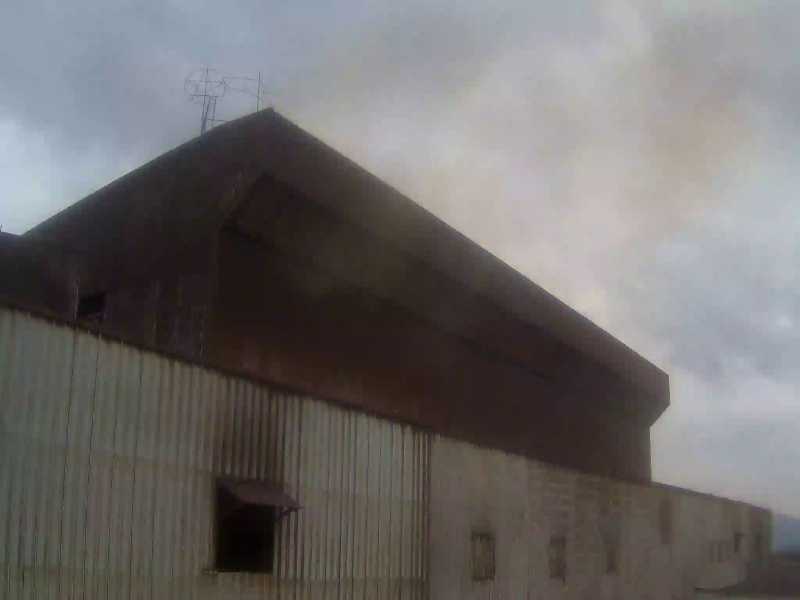bom: (2, 2, 265, 258)
ruim: (347, 31, 660, 363)
